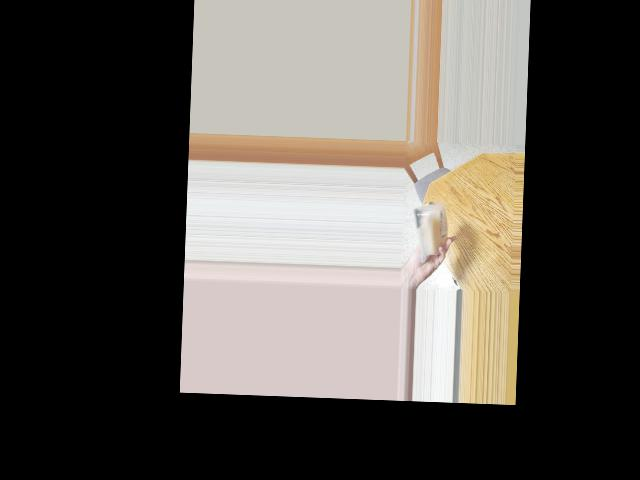cheese: (416, 205, 447, 253)
